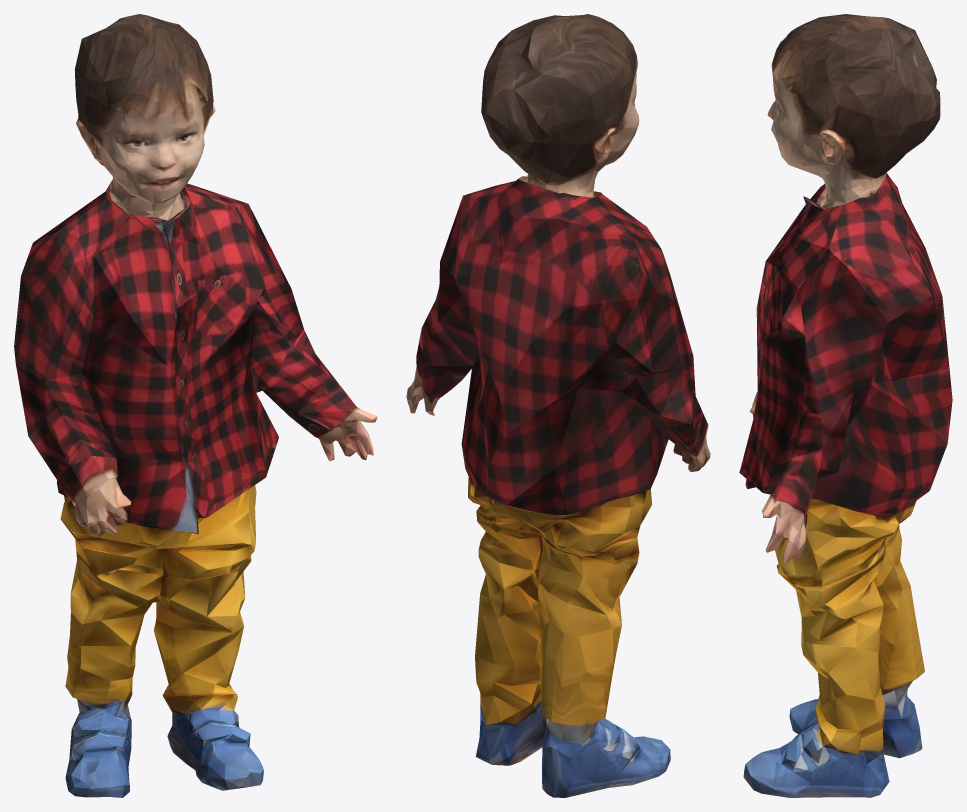
File: Boy4.glb
3 renders of one model, left to right at view 1: azimuth 30°, elevation 25°; view 2: azimuth 150°, elevation 25°; view 3: azimuth 270°, elevation 25°, orthographic.
Parts seen in each view (by area): view 1: Boy4; view 2: Boy4; view 3: Boy4.
Part boxes in pixels (bbox=[...]): Boy4: bbox=[14, 14, 377, 797]; Boy4: bbox=[406, 14, 710, 797]; Boy4: bbox=[739, 14, 952, 797].
Size of the model in its own units: 0.0657 by 0.1496 by 0.0389.
Materials: 1 (1 with a texture image).
